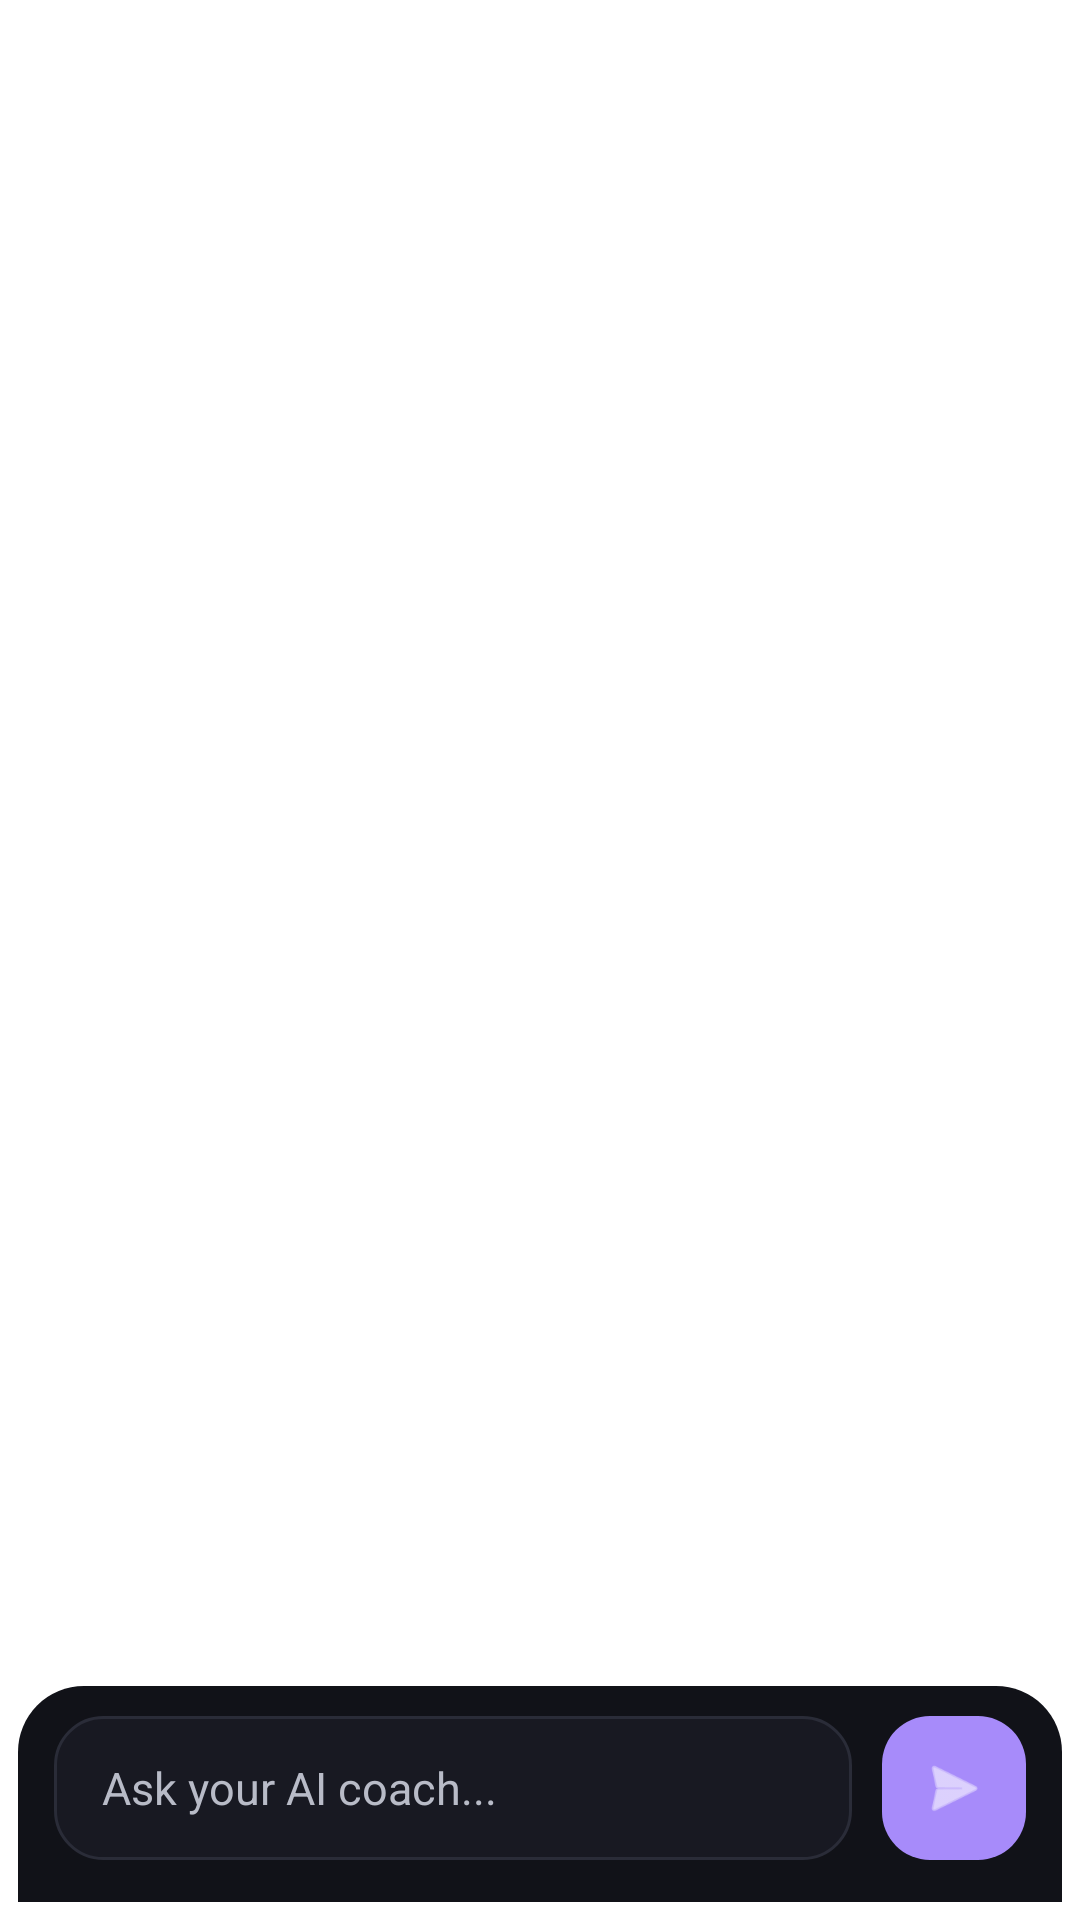

Icons on this 1080 × 1920 Android screen, each with its box as detection(x1, y1, x2, y2):
Send: detection(882, 1716, 1026, 1860)
